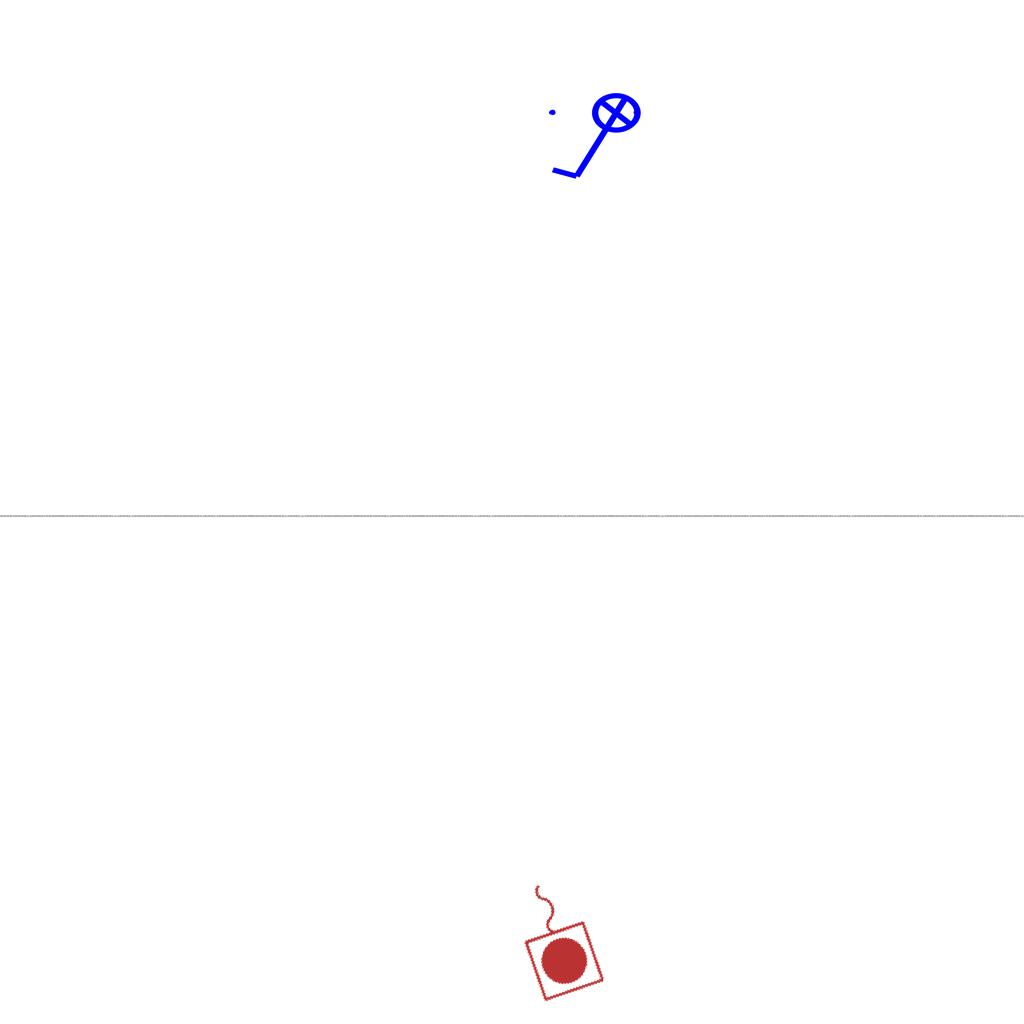Ausschalter_beleuchtet: (543, 91, 655, 187)
Zugtaster: (503, 867, 611, 1007)
